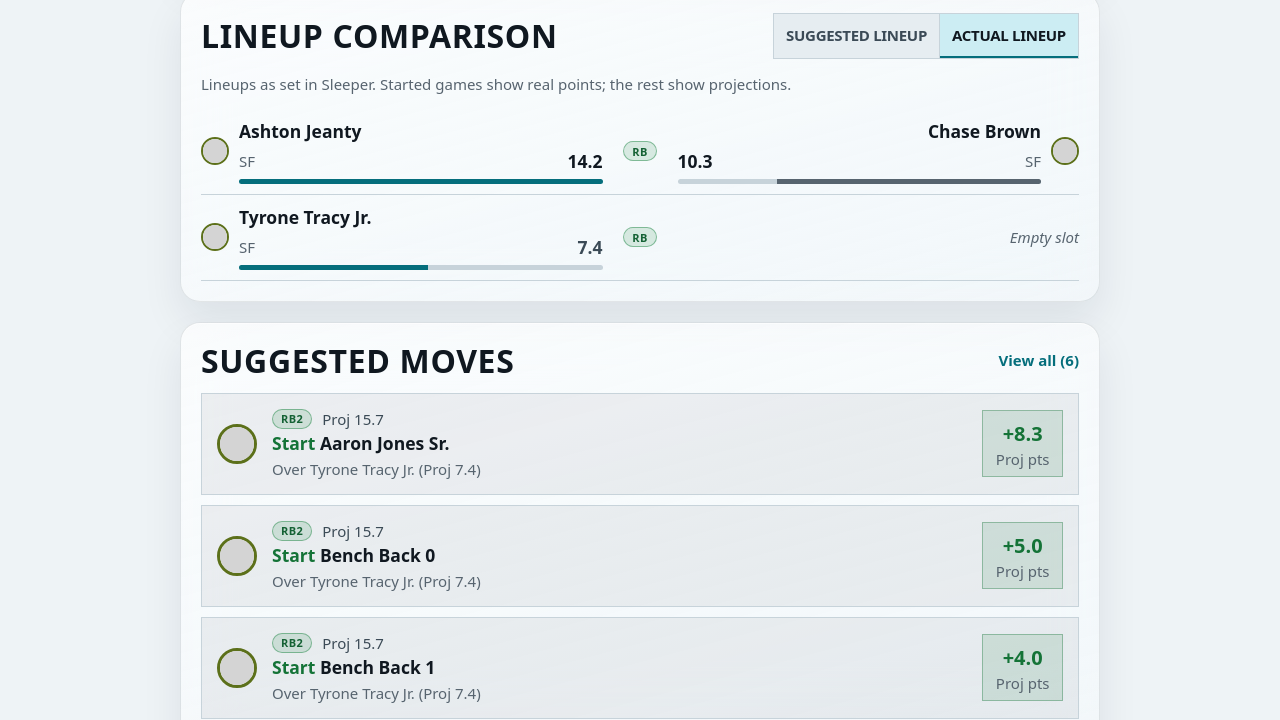
Test case: MatchupContent › suggested moves: start X over Y with slot badge and points gained; View all expands
(page scrolled)
Expected: the text "Aaron Jones Sr." is shown, [320,431,450,455]
Expected: the 1st text "Over Tyrone Tracy Jr. (Proj 7.4)" is shown, [272,459,481,479]
Click the button "View all (6)" at x=1039, y=360, box [998,350,1079,370]
(page scrolled)
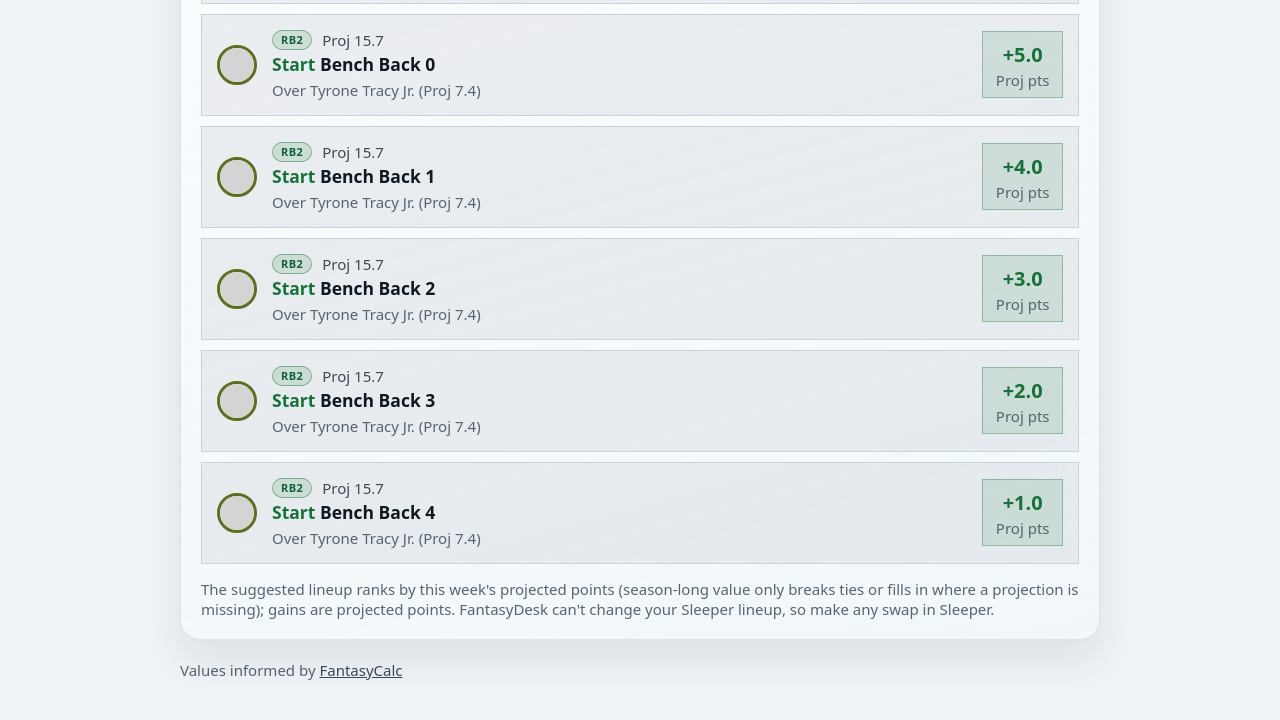
Now the text "Bench Back 4" is shown, box [320,500,435,524]
